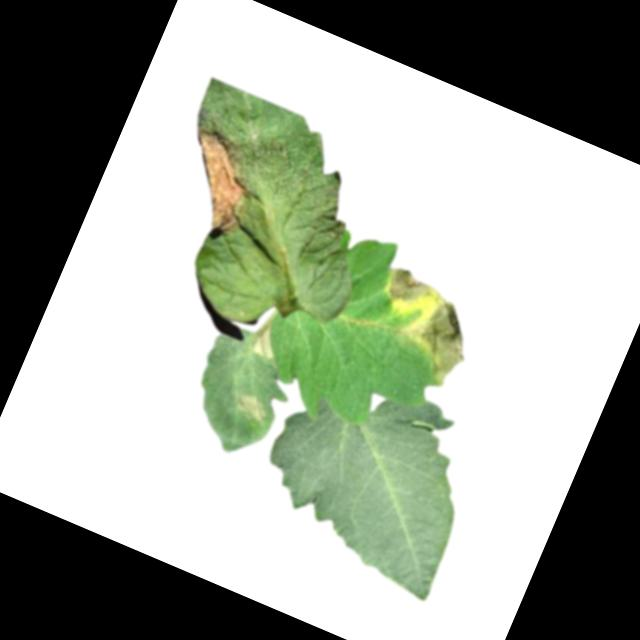Late_blight: (162, 119, 274, 243), (400, 292, 487, 393), (379, 264, 441, 318), (249, 315, 288, 360), (231, 389, 271, 425)
